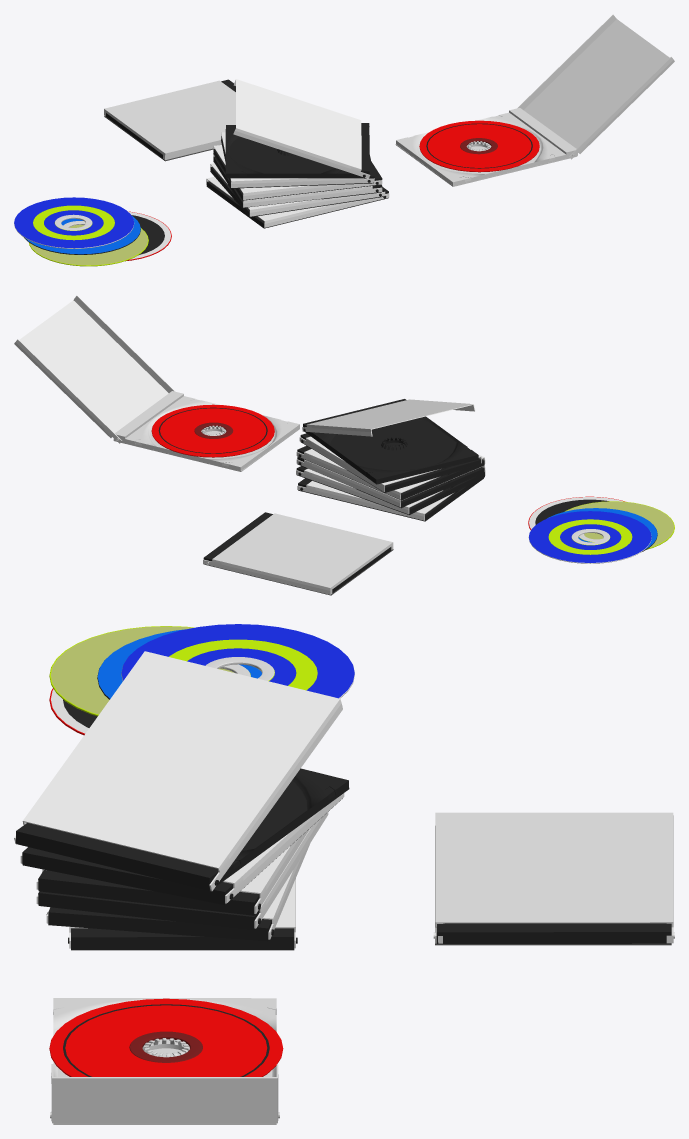
The picture shows the model from 3 angles, top to bottom: view 1: azimuth 30°, elevation 25°; view 2: azimuth 150°, elevation 25°; view 3: azimuth 270°, elevation 25°; orthographic projection. The views are drawn at different scales.
Visible parts, largest first — view 1: Tapa_Caja, Tapa_Caja006, Cylinder002, CD009, CD, CD004, Cylinder001, CD007, Tapa_Caja005, Tapa_Caja001, Tapa_Caja004, Tapa_Caja002 (+7 smaller); view 2: Tapa_Caja, Cylinder002, CD004, CD009, CD, Cylinder001, Tapa_Caja006, CD007, Tapa_Caja001, Tapa_Caja002, CD006, Tapa_Caja004 (+8 smaller); view 3: Tapa_Caja006, Cylinder002, CD, Tapa_Caja, CD009, CD004, CD007, Cylinder003, Cylinder001, Cylinder004, CD005, CD2 (+7 smaller).
Part boxes in pixels (left/top/right/bottom): Tapa_Caja: left=517, top=14, right=674, bottom=159; Tapa_Caja006: left=233, top=79, right=370, bottom=178; Cylinder002: left=104, top=79, right=235, bottom=161; CD009: left=14, top=197, right=134, bottom=248; CD: left=419, top=120, right=539, bottom=172; CD004: left=225, top=123, right=369, bottom=178; Cylinder001: left=395, top=108, right=577, bottom=186; CD007: left=29, top=224, right=148, bottom=266; Tapa_Caja005: left=221, top=132, right=374, bottom=187; Tapa_Caja001: left=206, top=176, right=389, bottom=227; Tapa_Caja004: left=213, top=145, right=382, bottom=199; Tapa_Caja002: left=210, top=163, right=385, bottom=216; Tapa_Caja: left=14, top=295, right=175, bottom=443; Cylinder002: left=203, top=512, right=393, bottom=595; CD004: left=303, top=399, right=478, bottom=484; CD009: left=528, top=511, right=651, bottom=563; CD: left=151, top=404, right=274, bottom=457; Cylinder001: left=113, top=391, right=299, bottom=471; Tapa_Caja006: left=302, top=399, right=475, bottom=436; CD007: left=565, top=501, right=674, bottom=549; Tapa_Caja001: left=297, top=481, right=453, bottom=520; Tapa_Caja002: left=296, top=468, right=485, bottom=514; CD006: left=528, top=496, right=624, bottom=529; Tapa_Caja004: left=296, top=449, right=485, bottom=499; Tapa_Caja006: left=14, top=651, right=342, bottom=891; Cylinder002: left=433, top=812, right=674, bottom=945; CD: left=49, top=998, right=283, bottom=1076; Tapa_Caja: left=51, top=1064, right=278, bottom=1123; CD009: left=121, top=624, right=354, bottom=698; CD004: left=16, top=768, right=349, bottom=891; CD007: left=49, top=626, right=233, bottom=716; Cylinder003: left=68, top=928, right=297, bottom=950; Cylinder001: left=50, top=998, right=279, bottom=1124; Cylinder004: left=38, top=870, right=260, bottom=915; CD005: left=22, top=798, right=342, bottom=905; CD2: left=46, top=907, right=273, bottom=941.
Bounding box in the file's own units: 2.37 × 0.3346 × 1.15.
